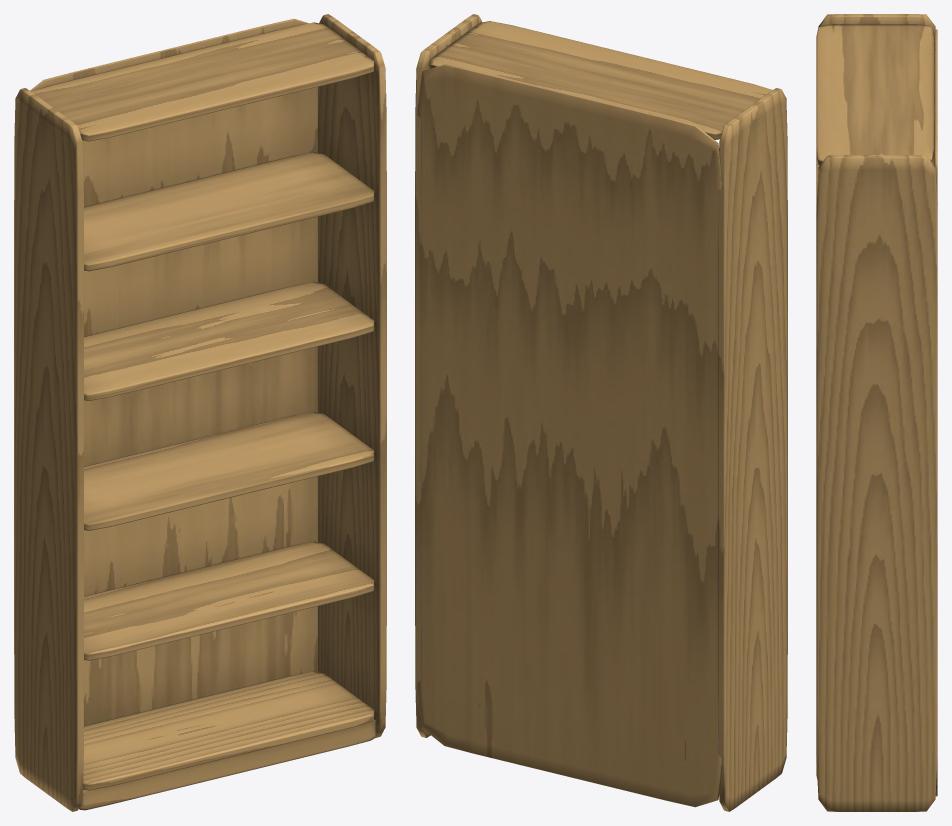
The model's file is empty-pine.glb.
3 views of the same model, side by side, from view 1: azimuth 30°, elevation 25°; view 2: azimuth 150°, elevation 25°; view 3: azimuth 270°, elevation 25° (orthographic). The views are drawn at different scales.
Visible parts, largest first — view 1: wood_v, wood_x; view 2: wood_v, wood_x; view 3: wood_v, wood_x.
Boxes of the visible parts, x1,y1,x2,y2 form: wood_v: (14,14,386,811); wood_x: (31,22,375,810); wood_v: (415,14,787,811); wood_x: (429,21,772,139); wood_v: (816,14,937,811); wood_x: (816,24,933,780).
Bounding box in the file's own units: 0.9 × 1.9 × 0.32.
Materials: 2 (2 with a texture image).
